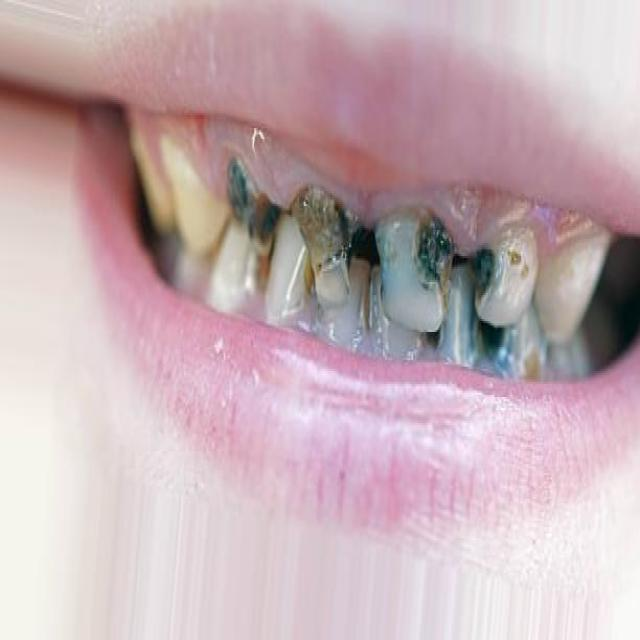caries: (372, 192, 456, 346), (291, 170, 356, 310), (467, 218, 536, 334), (225, 152, 277, 268), (464, 302, 520, 388)
